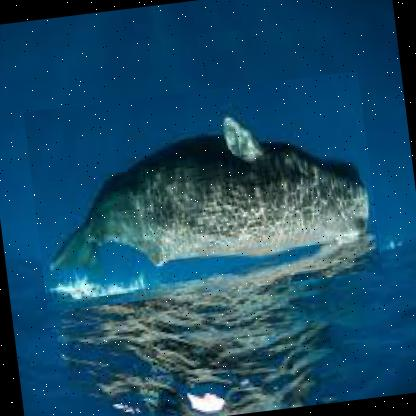sperm_whale: (23, 69, 383, 312)
